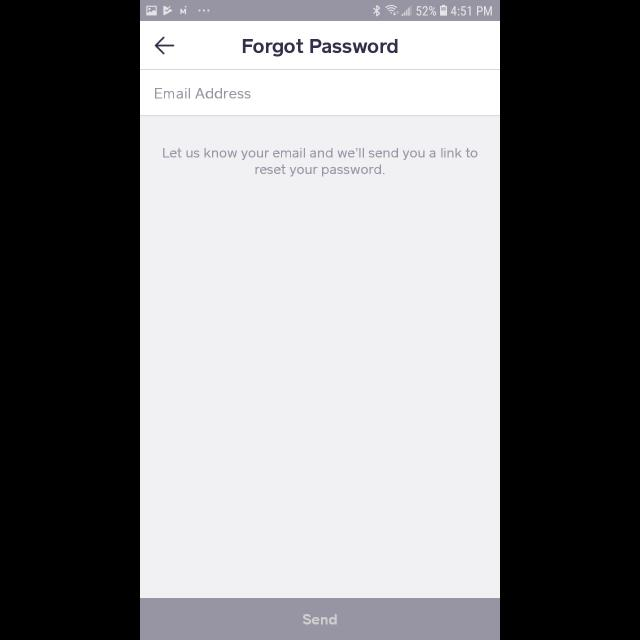icon: (155, 36, 175, 56)
text: (162, 148, 478, 176), (242, 39, 398, 57), (155, 88, 251, 100)
textbutton: (140, 598, 500, 640)
uppertaskbar: (140, 1, 500, 22)
